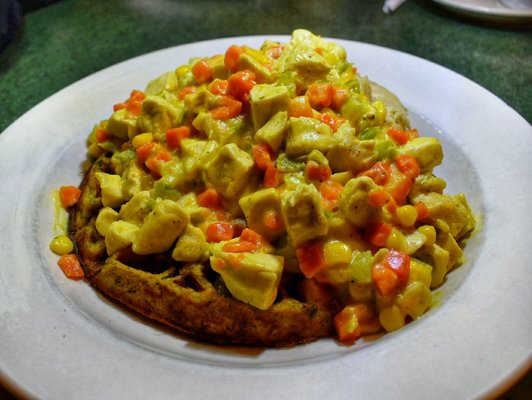curry: (8, 0, 531, 396)
sandwich: (57, 24, 501, 350)
